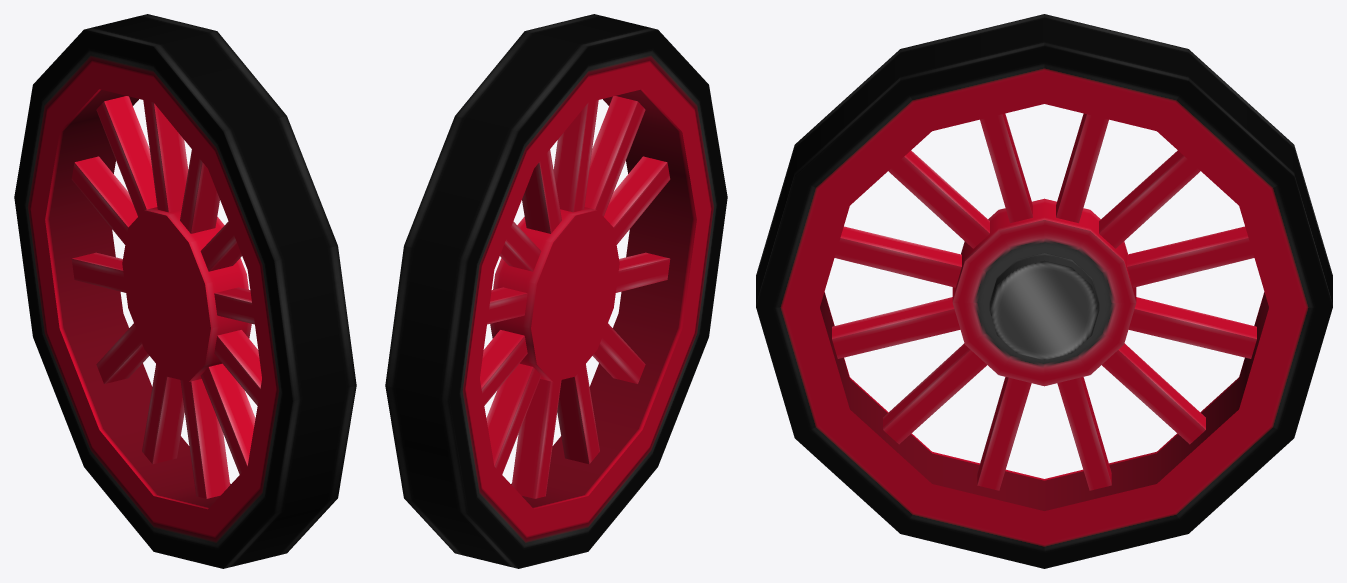
Rendered from wheel_train.FBX.
The picture shows the model from 3 angles, left to right: view 1: azimuth 30°, elevation 25°; view 2: azimuth 150°, elevation 25°; view 3: azimuth 270°, elevation 25°; orthographic projection. The views are drawn at different scales.
Parts seen in each view (by area): view 1: Object030; view 2: Object030; view 3: Object030.
Part boxes in pixels (x1,y1,x2,y2): Object030: [14, 14, 356, 568]; Object030: [385, 14, 727, 568]; Object030: [756, 14, 1332, 568].
Size of the model in its own units: 0.0222 by 0.154 by 0.154.
